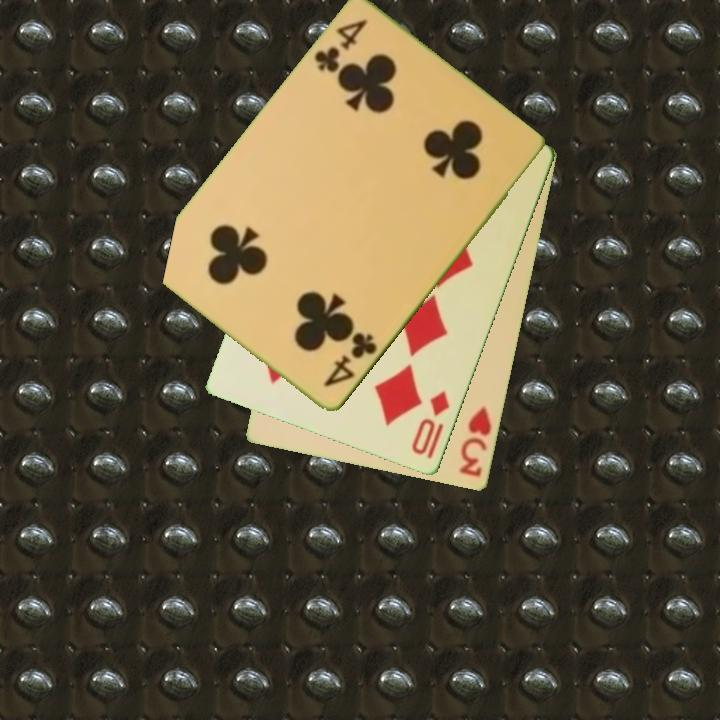10d: (408, 388, 453, 459)
3h: (456, 403, 495, 480)
4c: (320, 329, 380, 391), (311, 16, 371, 77)
